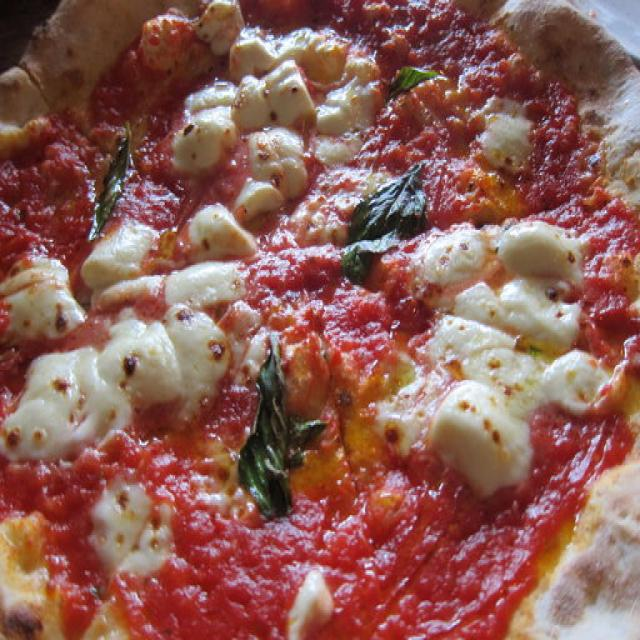Basil: (250, 342, 314, 508), (346, 167, 424, 282), (94, 142, 130, 226), (390, 59, 434, 97)
Cheese: (426, 228, 608, 411), (17, 317, 233, 460), (180, 56, 309, 188), (86, 229, 243, 300), (437, 398, 518, 490), (98, 493, 171, 572), (0, 274, 90, 336), (477, 102, 527, 167), (192, 207, 256, 253), (291, 579, 336, 638)
Pizza: (0, 0, 640, 640)
